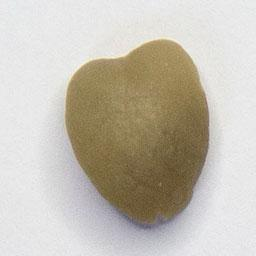premium: (61, 34, 213, 230)
